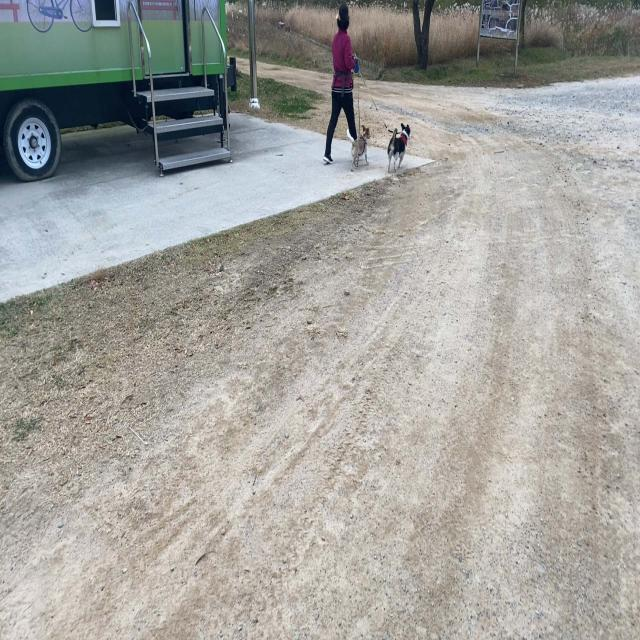Leashed_Dog: (351, 51, 410, 172), (351, 52, 372, 173)
